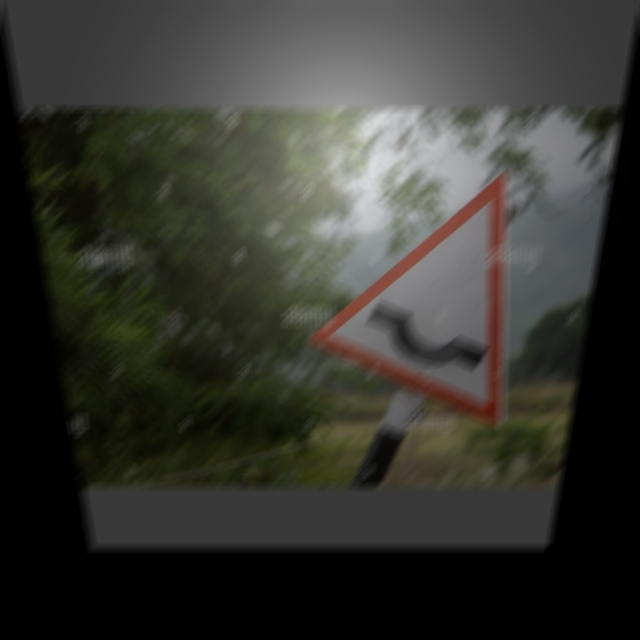Dangerous_Dip: (303, 168, 539, 424)
